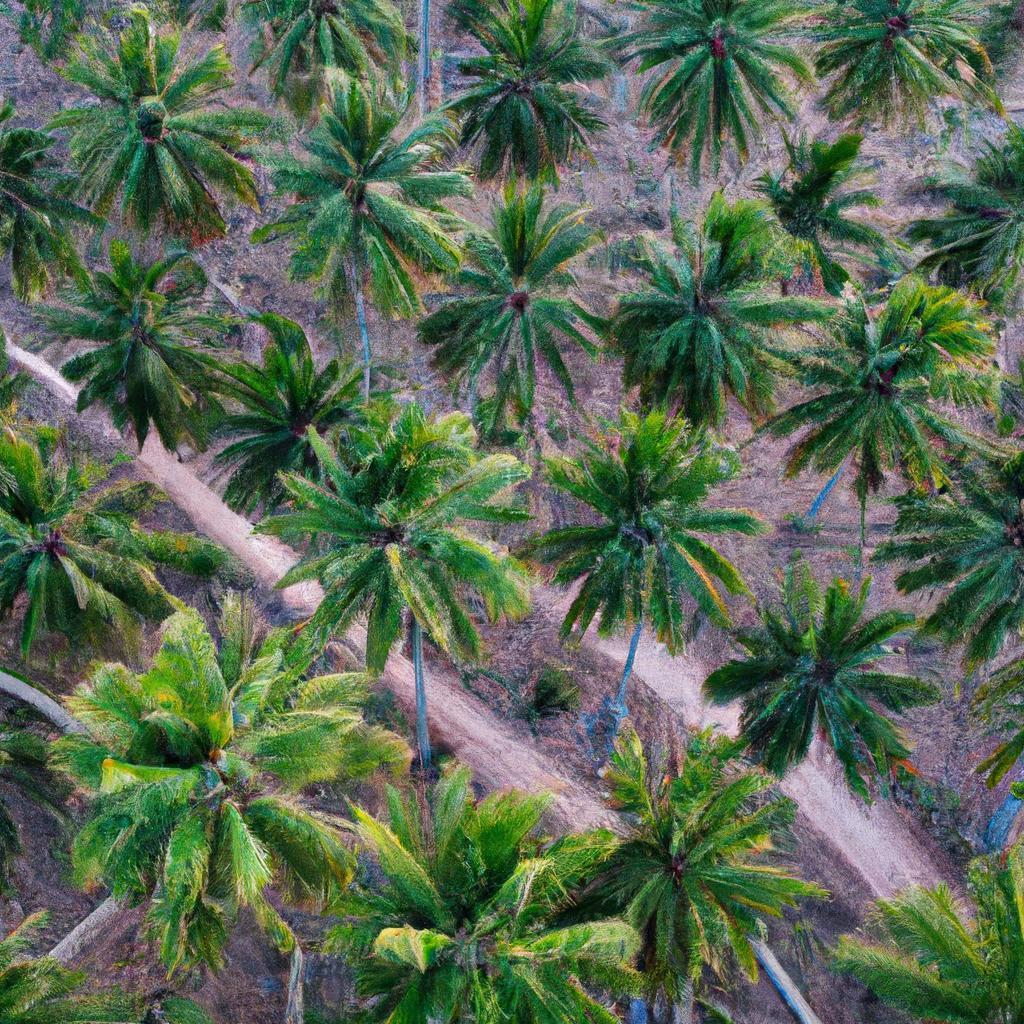coconut_tree: (38, 588, 417, 969), (339, 753, 654, 1023), (259, 415, 536, 713), (560, 720, 812, 996), (693, 534, 947, 797), (538, 415, 765, 658), (263, 82, 472, 326), (784, 267, 1000, 501), (52, 29, 268, 261), (422, 181, 628, 423), (617, 191, 819, 434), (43, 224, 235, 467), (438, 0, 622, 197)
